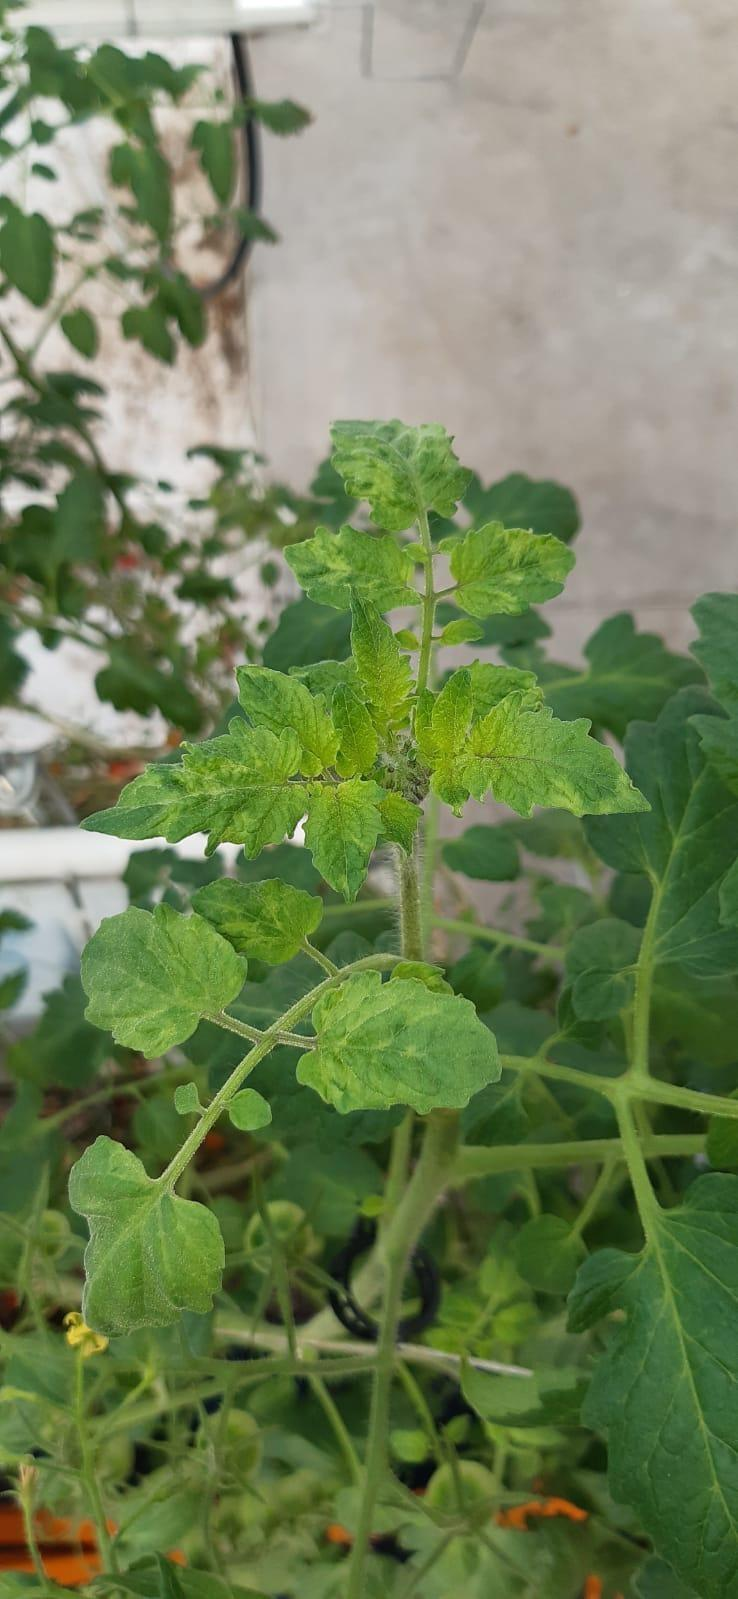Hoja: (569, 1175, 737, 1599)
Hoja rugoso: (587, 687, 737, 978), (68, 1137, 225, 1334), (82, 718, 306, 855), (295, 971, 499, 1114), (430, 686, 647, 816), (78, 904, 244, 1059), (443, 521, 575, 618), (284, 524, 422, 612), (191, 878, 325, 965), (239, 665, 340, 776), (303, 781, 384, 901), (350, 590, 415, 737), (566, 918, 643, 1021), (415, 668, 475, 785), (331, 681, 378, 778)
Pedunculo rugoso: (162, 1028, 278, 1188)
